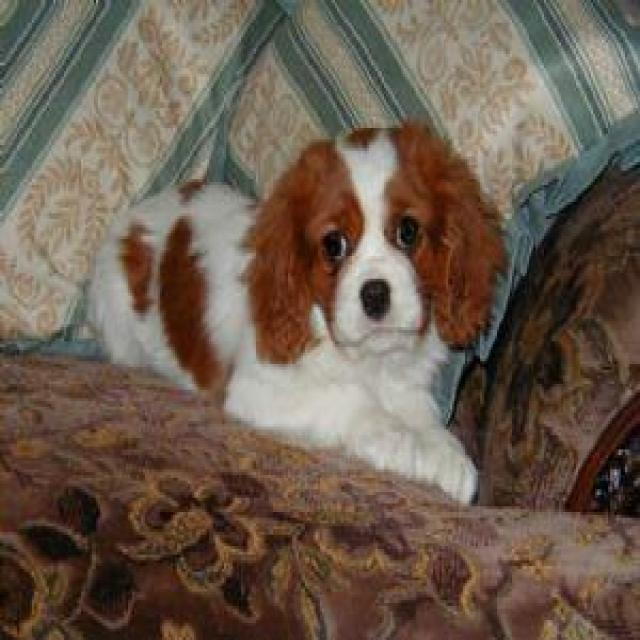blenheim_spaniel: (79, 122, 503, 504)
